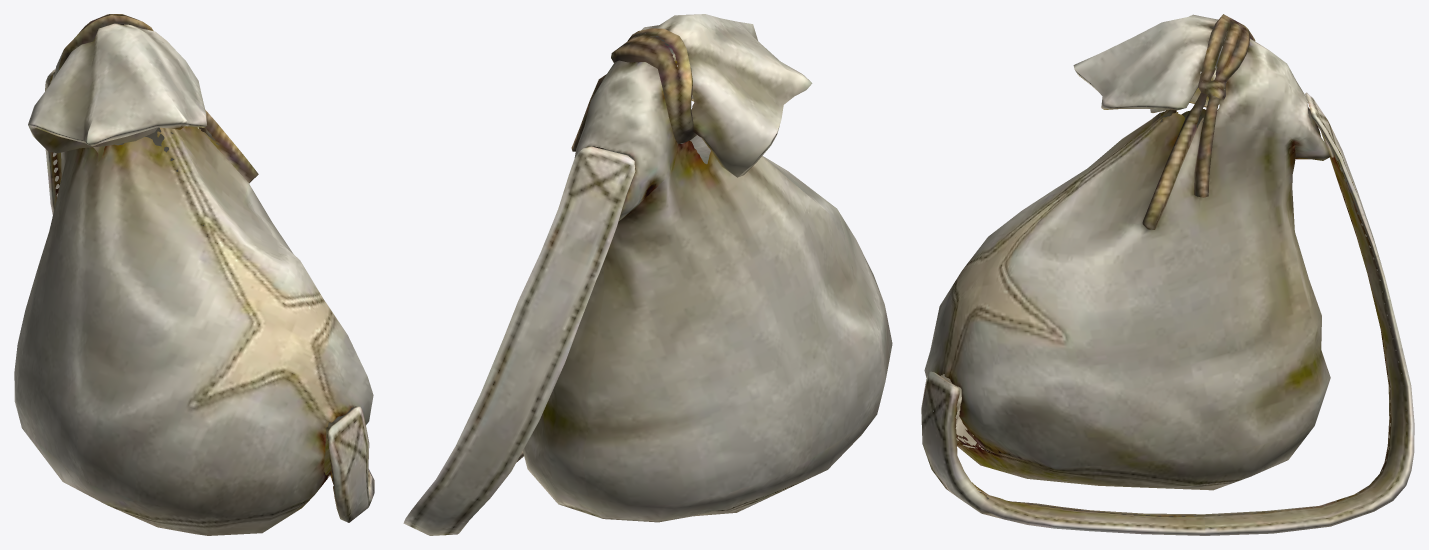
3 renders of one model, left to right at view 1: azimuth 30°, elevation 25°; view 2: azimuth 150°, elevation 25°; view 3: azimuth 270°, elevation 25°, orthographic. The views are drawn at different scales.
Parts seen in each view (by area): view 1: SM_Human_Napsack_01_LOD0; view 2: SM_Human_Napsack_01_LOD0; view 3: SM_Human_Napsack_01_LOD0.
Part boxes in pixels (x1=…): SM_Human_Napsack_01_LOD0: x1=14, y1=14, x2=374, y2=535; SM_Human_Napsack_01_LOD0: x1=403, y1=14, x2=892, y2=535; SM_Human_Napsack_01_LOD0: x1=921, y1=14, x2=1414, y2=535.
Size of the model in its own units: 0.2648 by 0.3751 by 0.3838.
1 material, 1 textured.
